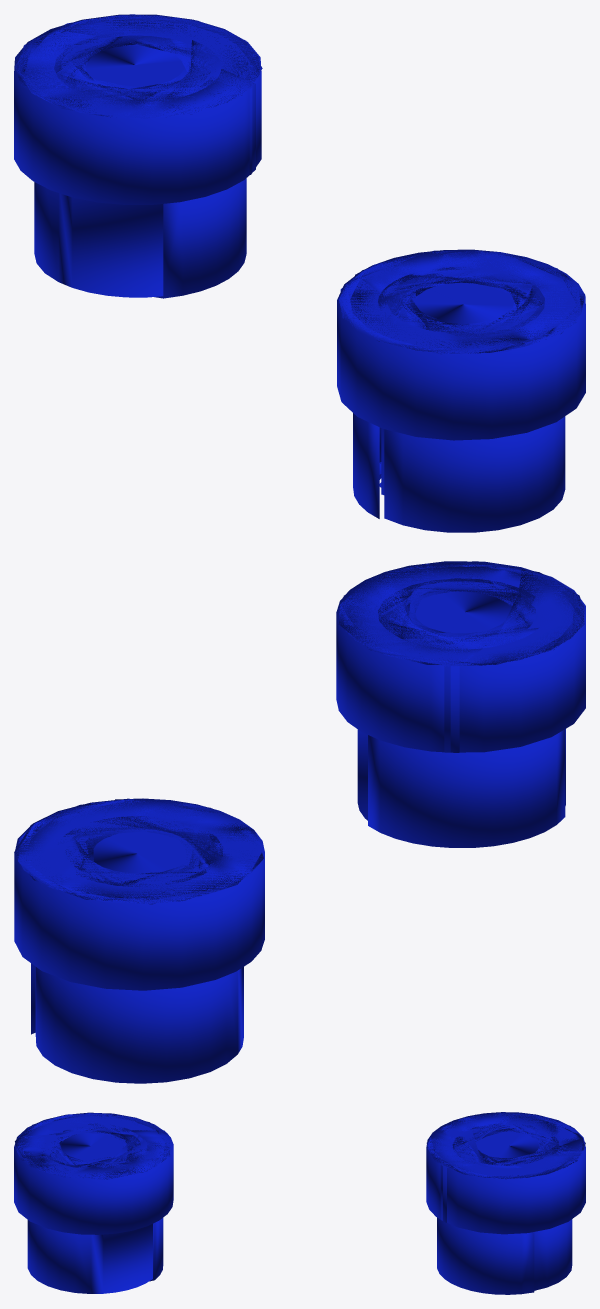
File: tuyeau_element_000031.obj
3 views of the same model, one above another, from view 1: azimuth 30°, elevation 25°; view 2: azimuth 150°, elevation 25°; view 3: azimuth 270°, elevation 25° (orthographic). The views are drawn at different scales.
Visible parts, largest first — view 1: tuyeau1_Cube.014, tuyeau2_Cube.017; view 2: tuyeau2_Cube.017, tuyeau1_Cube.014; view 3: tuyeau1_Cube.014, tuyeau2_Cube.017.
Part boxes in pixels (bbox=[...]): tuyeau1_Cube.014: bbox=[14, 14, 262, 298]; tuyeau2_Cube.017: bbox=[337, 249, 585, 532]; tuyeau2_Cube.017: bbox=[336, 561, 585, 847]; tuyeau1_Cube.014: bbox=[14, 798, 264, 1083]; tuyeau1_Cube.014: bbox=[426, 1112, 585, 1294]; tuyeau2_Cube.017: bbox=[14, 1112, 173, 1293].
Size of the model in its own units: 3553 by 2917 by 12630.
